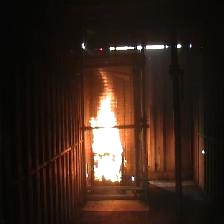fire: (88, 81, 128, 185)
